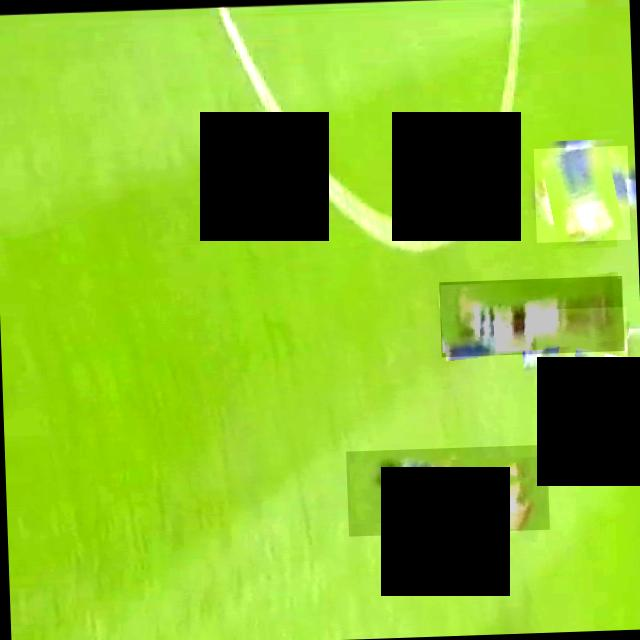soccer-player: (346, 443, 550, 535), (438, 274, 624, 356), (533, 144, 630, 242), (535, 306, 629, 400), (604, 365, 640, 411)
